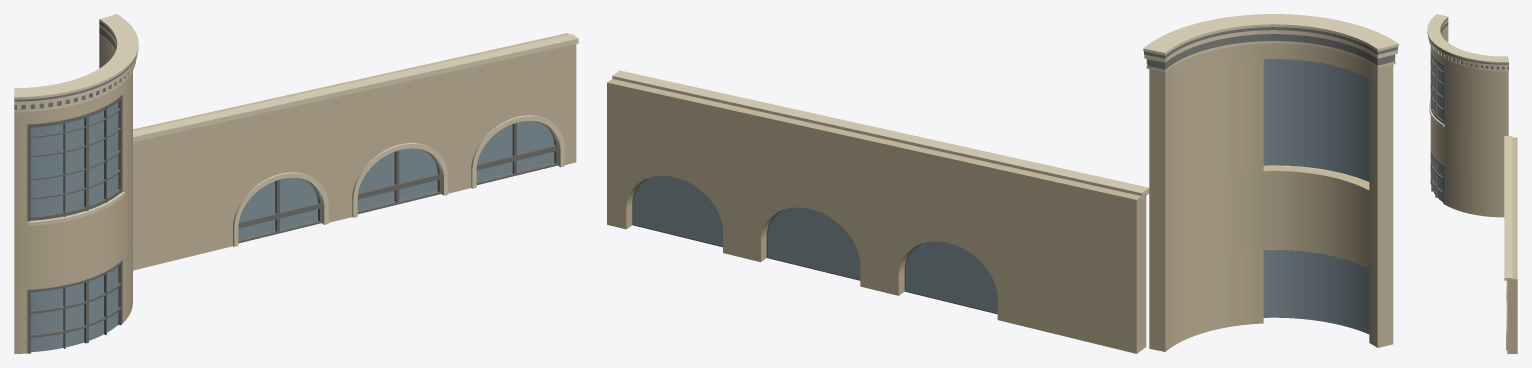
File: xuhui-xiangyang-south-362-courtyard-arcade-near.glb
3 views of the same model, side by side, from view 1: azimuth 30°, elevation 25°; view 2: azimuth 150°, elevation 25°; view 3: azimuth 270°, elevation 25° (orthographic). The views are drawn at different scales.
Parts seen in each view (by area): view 1: 襄阳南路362号照片所见院侧三券与弧形檐; view 2: 襄阳南路362号照片所见院侧三券与弧形檐; view 3: 襄阳南路362号照片所见院侧三券与弧形檐.
Boxes of the visible parts, x1,y1,x2,y2 form: 襄阳南路362号照片所见院侧三券与弧形檐: (14,14,578,353); 襄阳南路362号照片所见院侧三券与弧形檐: (607,14,1398,353); 襄阳南路362号照片所见院侧三券与弧形檐: (1427,14,1517,353).
Bounding box in the file's own units: 10.78 × 4.31 × 2.25.
